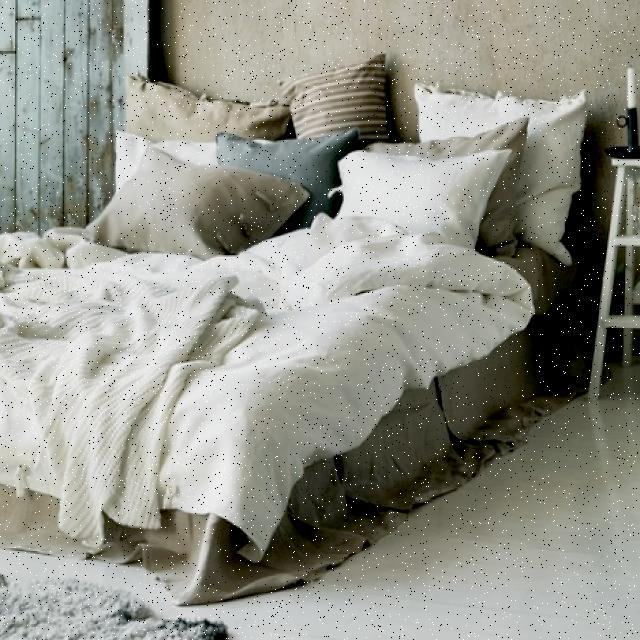bed: (0, 49, 590, 605)
